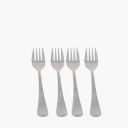Fork: (67, 44, 108, 120), (26, 42, 53, 118), (51, 44, 69, 122)
